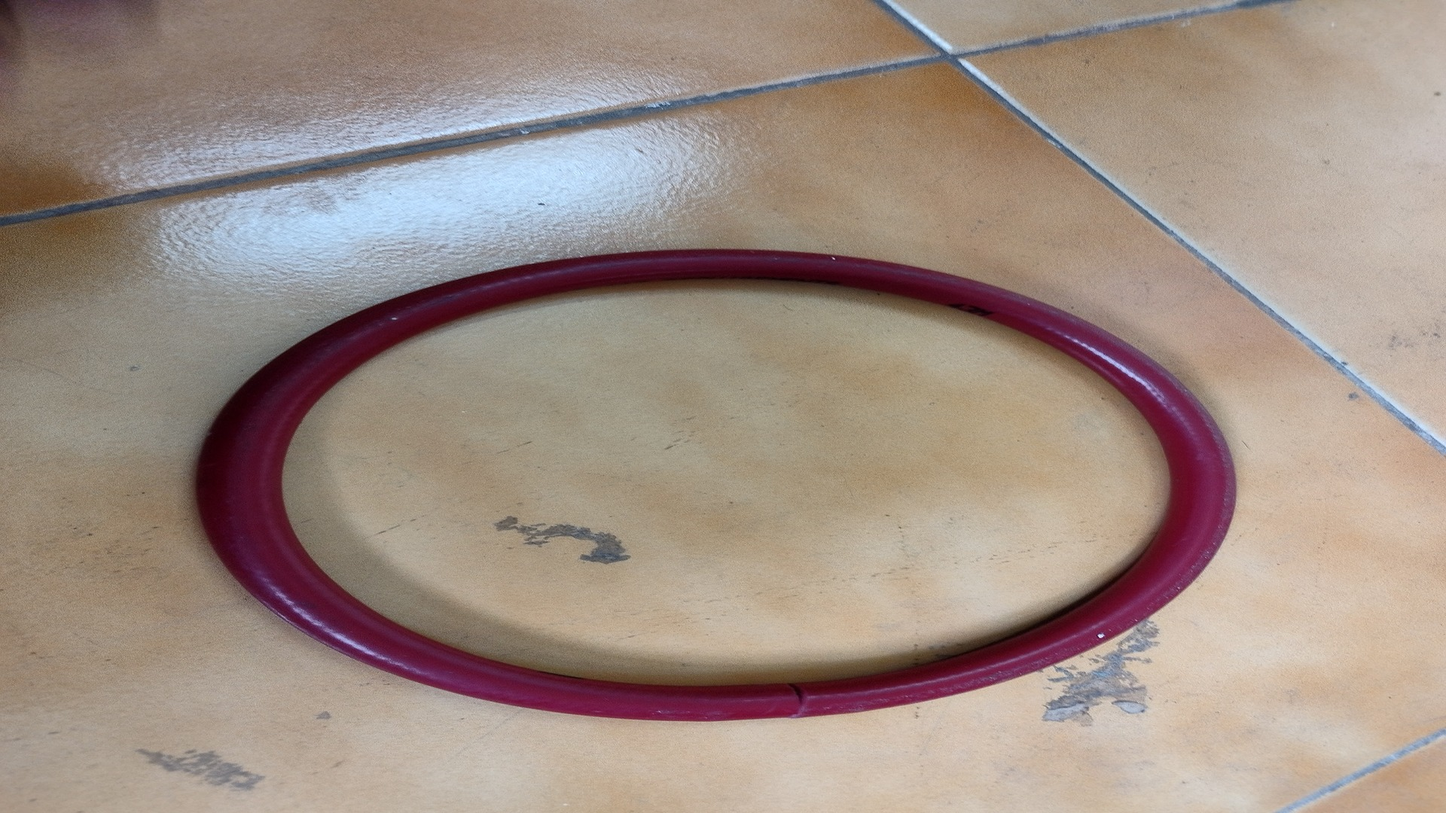Red ring: (194, 246, 1237, 716)
